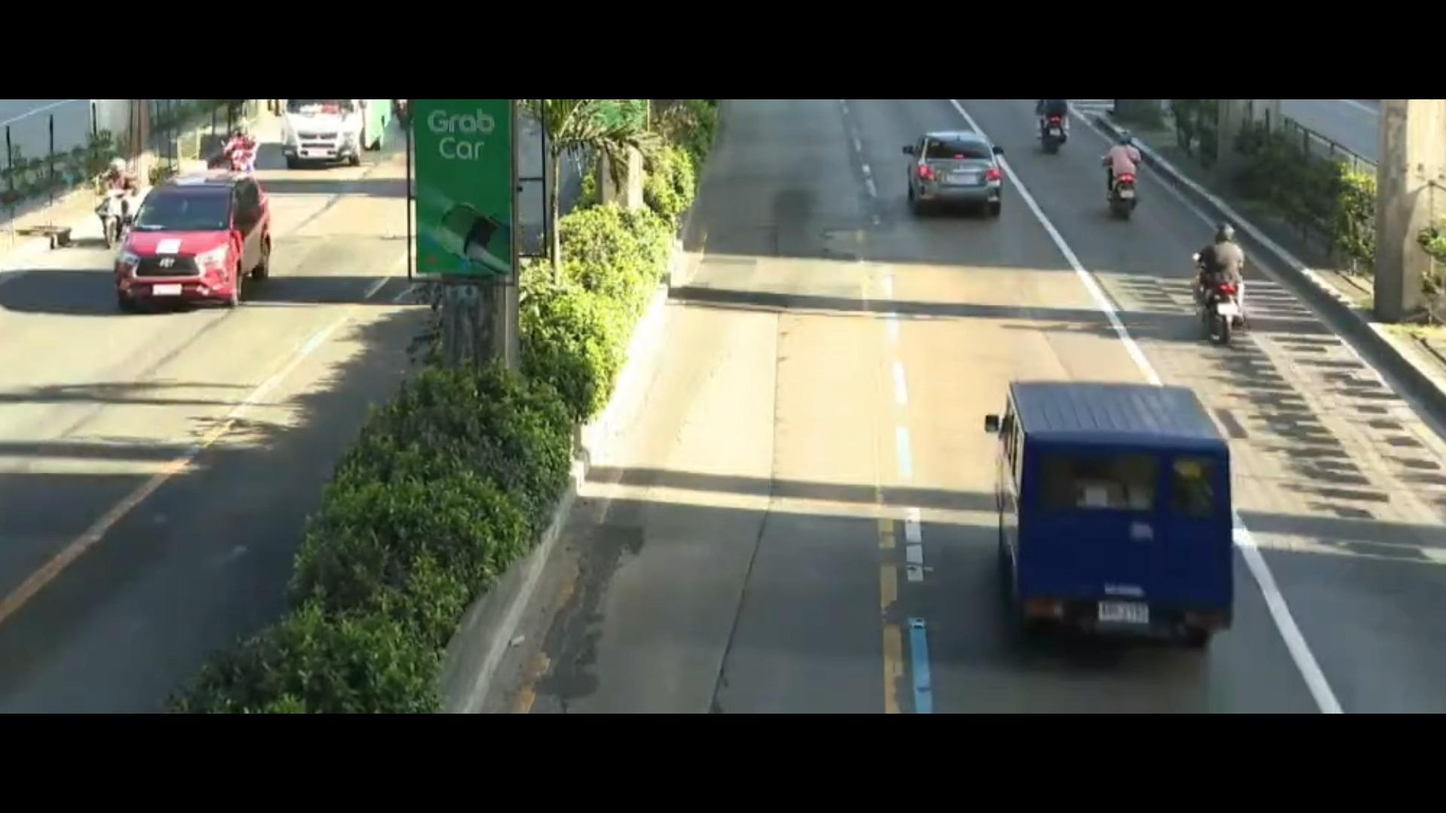Motorcycle: (1180, 219, 1275, 339), (79, 142, 147, 241), (1087, 134, 1149, 218), (1038, 99, 1082, 157), (216, 115, 255, 172)
Multicab: (962, 350, 1277, 684)
SUV: (100, 162, 275, 306)
Sedan: (882, 115, 1033, 235)
Truck: (263, 100, 382, 178)
